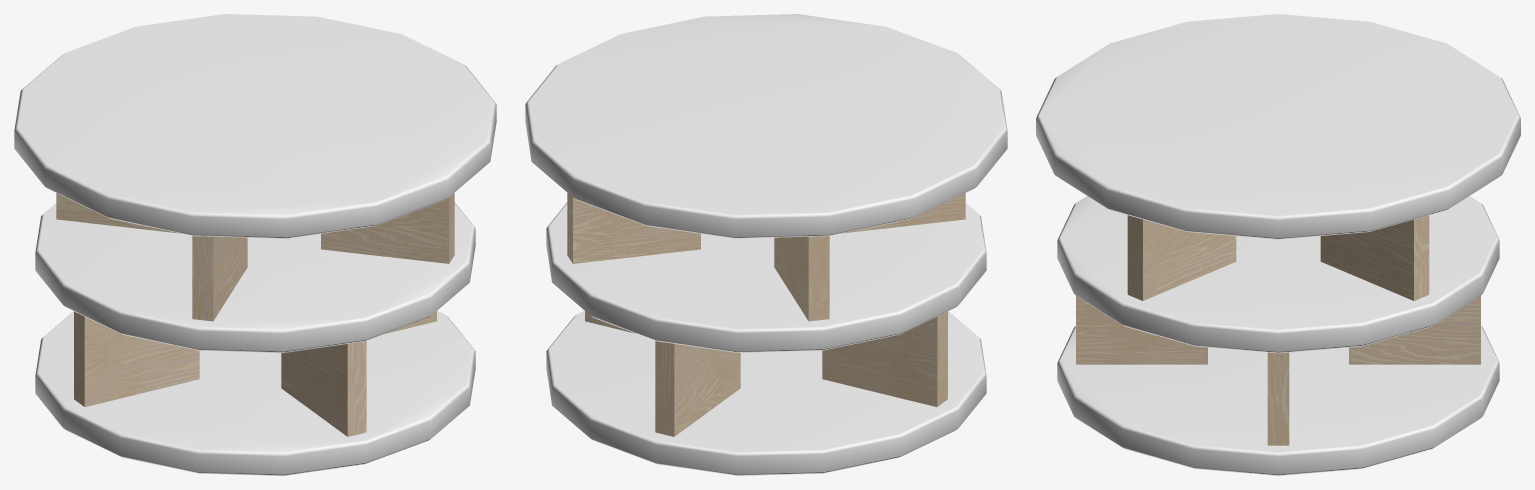
File: coffee_table_011.fbx
3 views of the same model, side by side, from view 1: azimuth 30°, elevation 25°; view 2: azimuth 150°, elevation 25°; view 3: azimuth 270°, elevation 25° (orthographic).
Parts seen in each view (by area): view 1: coffee_table_011; view 2: coffee_table_011; view 3: coffee_table_011.
Part boxes in pixels (x1=…): coffee_table_011: x1=14, y1=14, x2=496, y2=475; coffee_table_011: x1=525, y1=14, x2=1007, y2=475; coffee_table_011: x1=1036, y1=14, x2=1520, y2=475.
Bounding box in the file's own units: 108 × 108 × 66.04.
